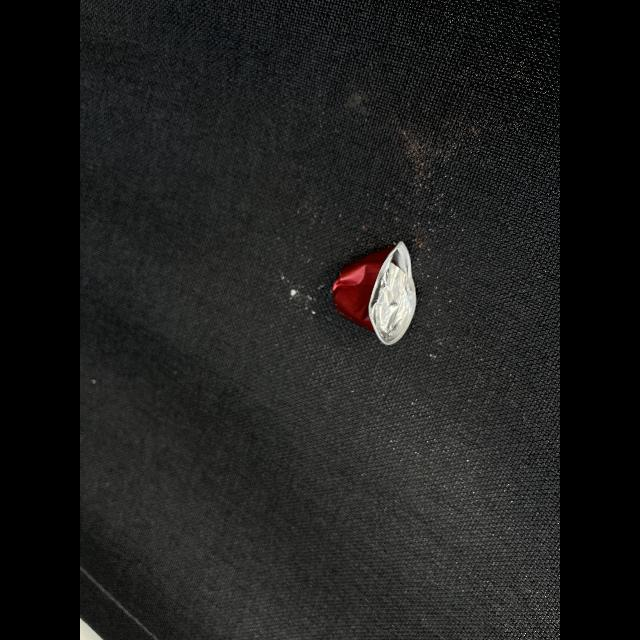damaged_capsule: (325, 230, 429, 350)
